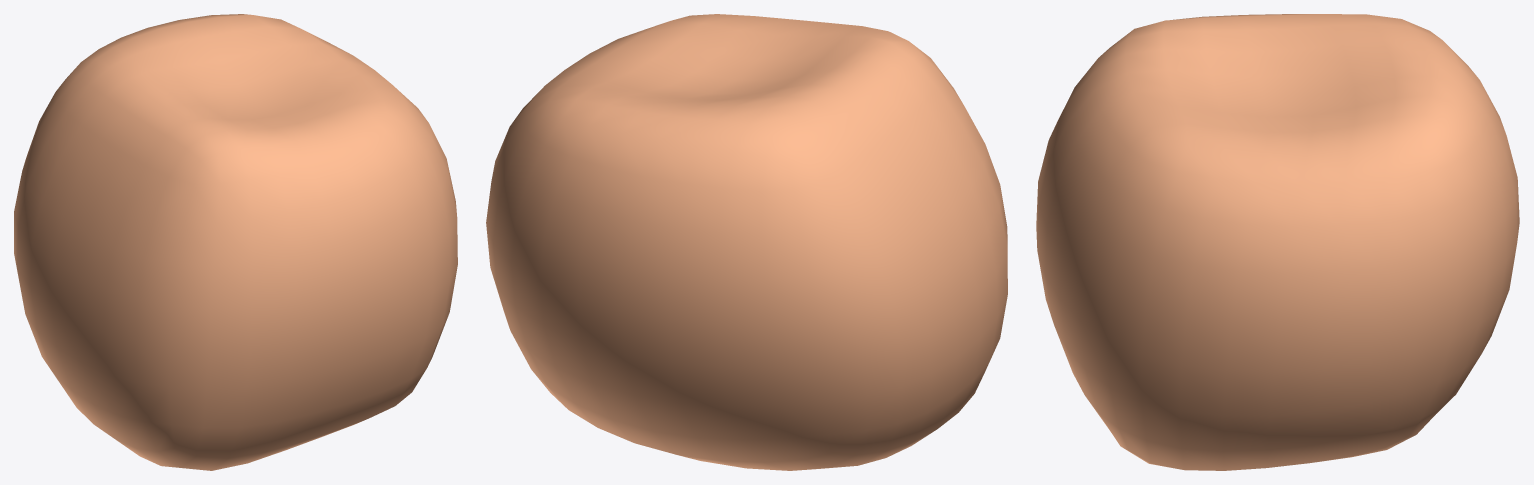
The model's file is Marshmallow_A_03.fbx.
The picture shows the model from 3 angles, left to right: view 1: azimuth 30°, elevation 25°; view 2: azimuth 150°, elevation 25°; view 3: azimuth 270°, elevation 25°; orthographic projection. The views are drawn at different scales.
Visible parts, largest first — view 1: Marshmallow_A_03_LOD0; view 2: Marshmallow_A_03_LOD0; view 3: Marshmallow_A_03_LOD0.
Part boxes in pixels (x1,y1,x2,y2): Marshmallow_A_03_LOD0: (14,14,457,470); Marshmallow_A_03_LOD0: (486,14,1007,470); Marshmallow_A_03_LOD0: (1036,14,1519,470).
Size of what is drawn, in the model's own units: 410 by 347 by 405.
